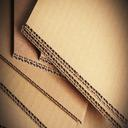cardboard: (20, 0, 127, 127), (0, 0, 89, 123), (0, 59, 122, 127), (12, 0, 64, 77), (0, 88, 41, 127), (38, 52, 52, 63)
